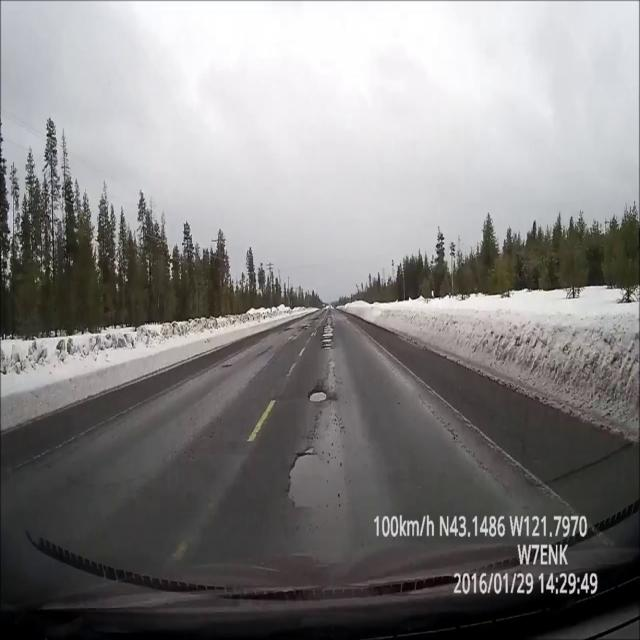Pothole: (286, 444, 324, 510), (308, 386, 330, 404), (323, 325, 333, 336), (220, 362, 233, 369), (284, 327, 294, 332), (322, 338, 333, 342), (322, 342, 333, 346), (322, 346, 332, 349), (312, 317, 319, 321), (302, 325, 311, 328)
